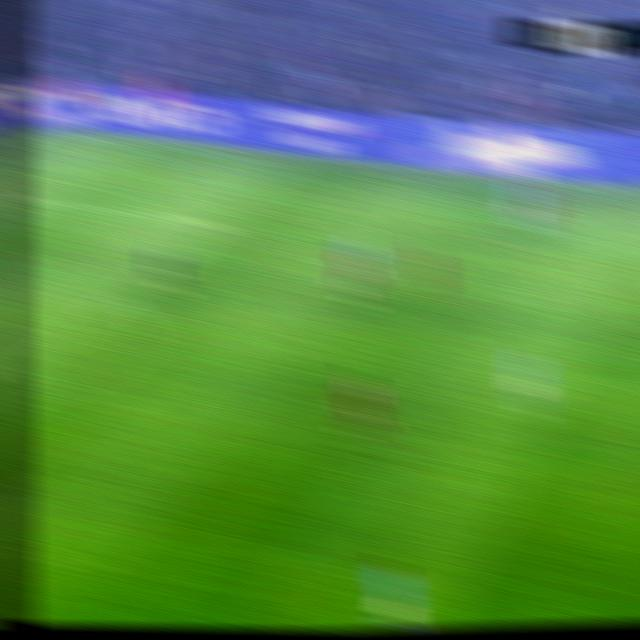bigarea_top_inner: (202, 213, 234, 236)
corner: (50, 129, 82, 143), (56, 130, 87, 143)
top_arc_area_intersection: (106, 284, 137, 311)
